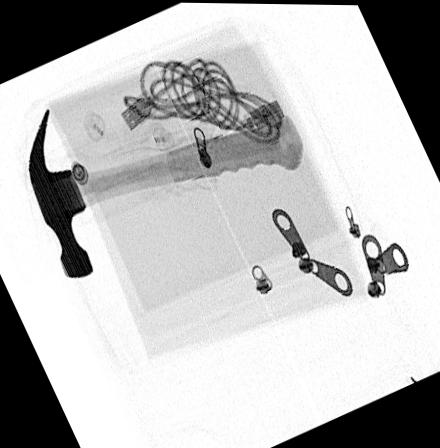Hammer: (26, 106, 304, 280)
